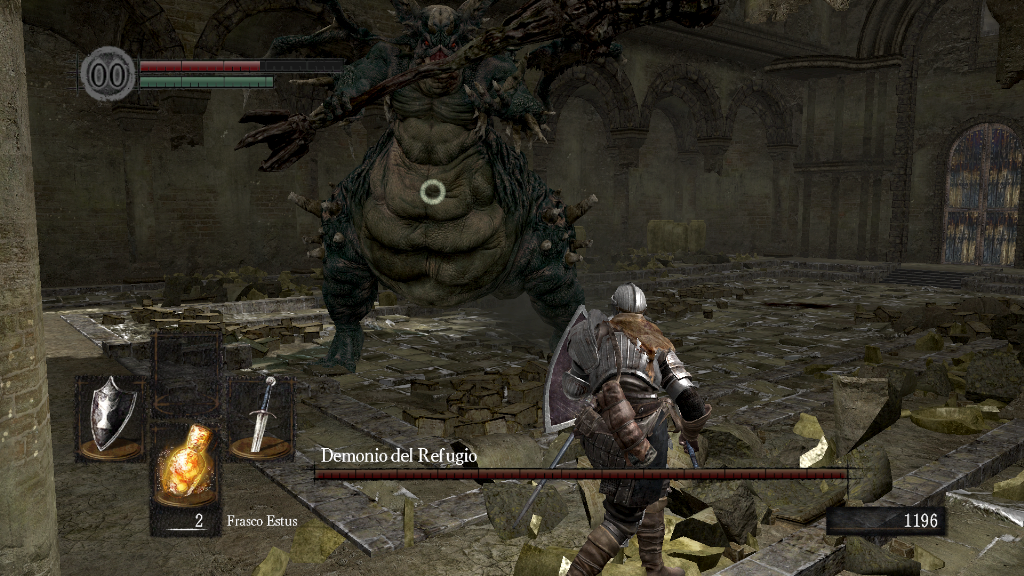asylumDemon: (233, 1, 728, 383)
bossHP: (314, 469, 847, 479)
health: (138, 58, 343, 71)
humanity: (80, 45, 136, 102)
player: (540, 282, 715, 576)
souls: (825, 506, 945, 536)
stamina: (138, 74, 274, 88)
